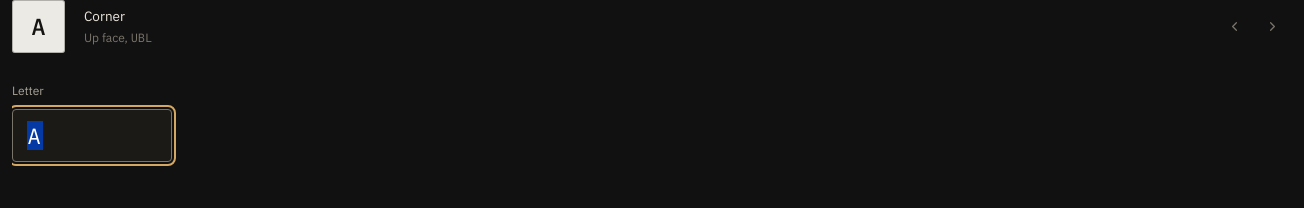
Test case: lettering field completion › restores the last usable letter when a cleared input loses focus
Replace the text in the field labelled "Letter" with "CH" at (92, 136), box [12, 109, 172, 162]
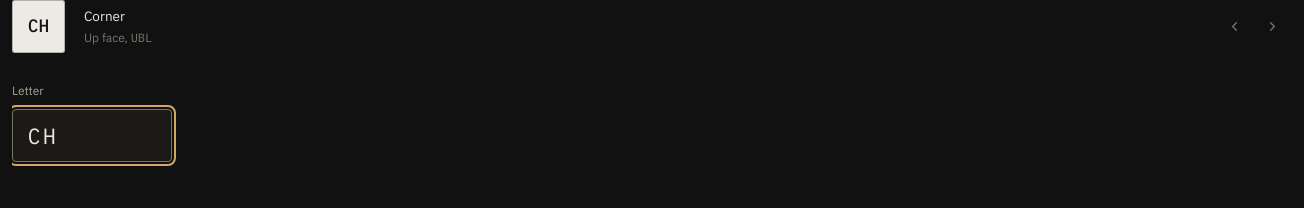
Clear the field labelled "Letter" at (92, 136), box [12, 109, 172, 162]
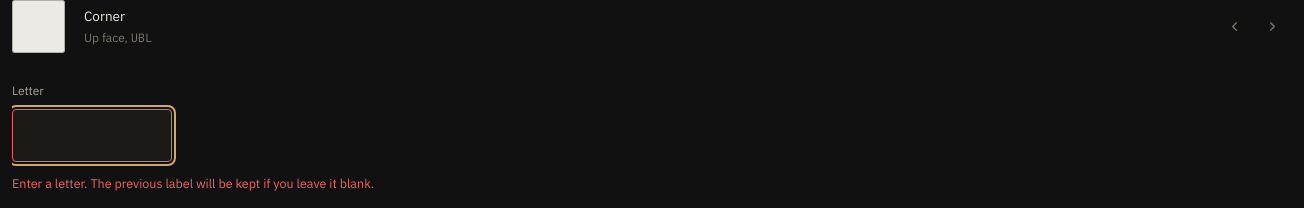
Now the field labelled "Letter" is marked as invalid
Now the text "Enter a letter" has class "text-[var(--danger)]", box [12, 175, 374, 191]
Leave the field labelled "Letter", box [12, 109, 172, 162]
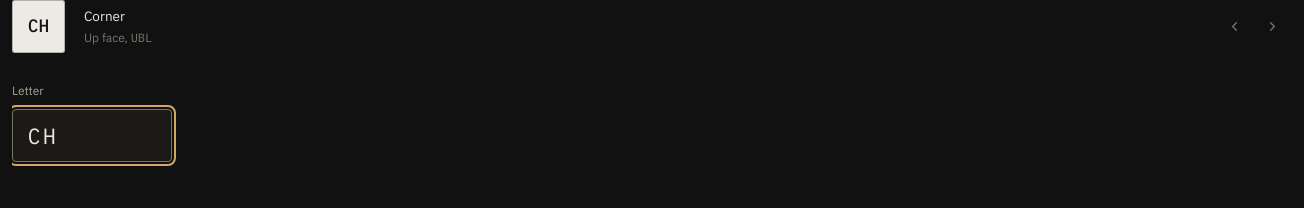
Now the field labelled "Letter" is not marked as invalid, box [12, 109, 172, 162]
